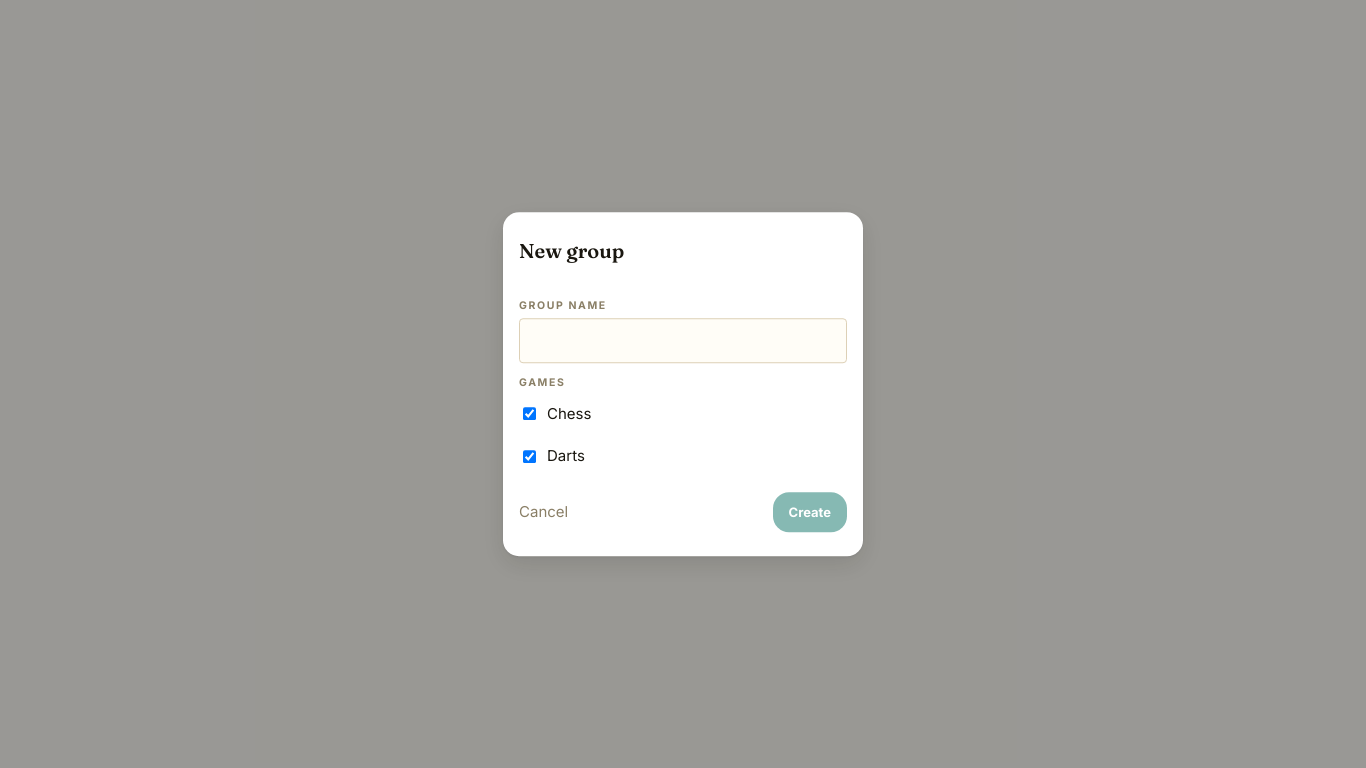
it: CreateGroup › disables Create when the name is empty
Check: the checkbox labelled "Chess" is shown, box [523,408,536,420]
Check: the button "Create" is disabled, box [773,492,847,532]
Type "Fam" into the field labelled "Group name" at (683, 340), box [519,318,847,363]
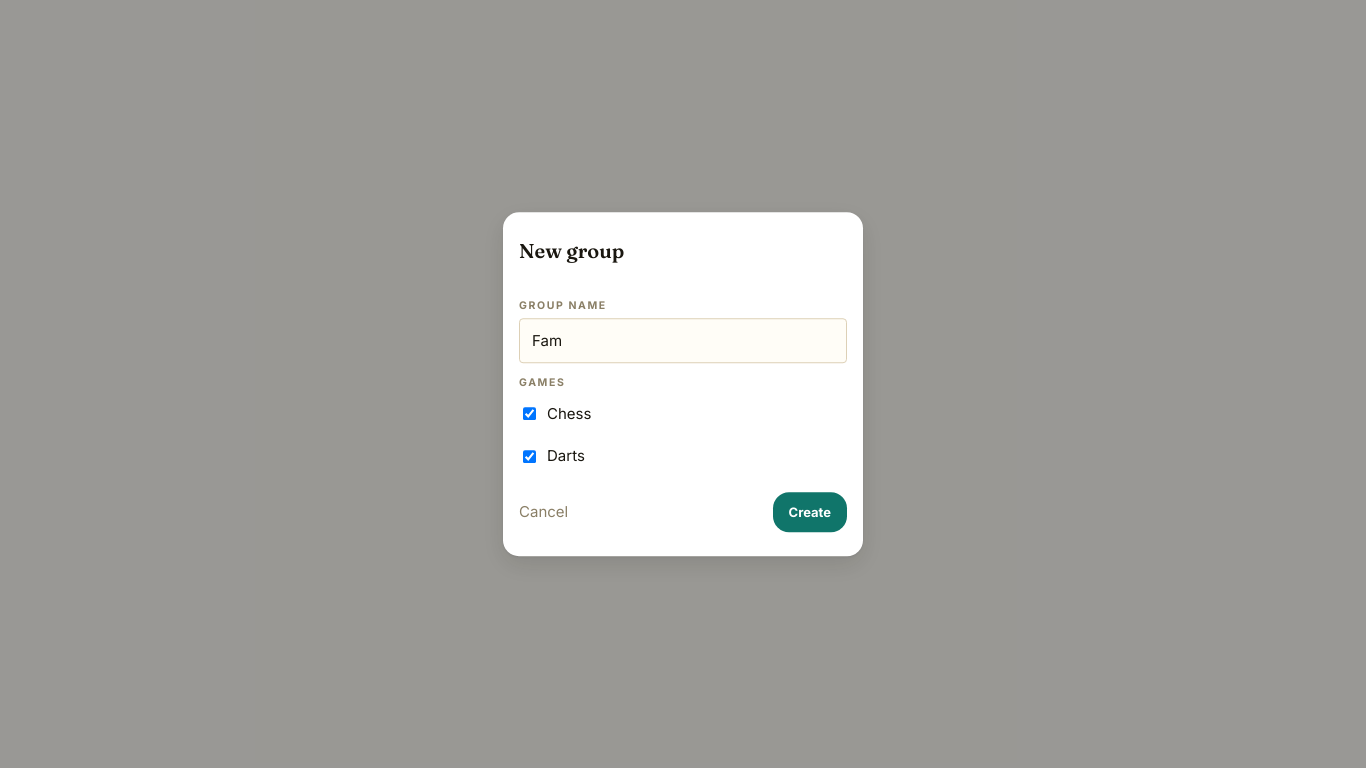
Check: the button "Create" is enabled, box [773,492,847,532]
